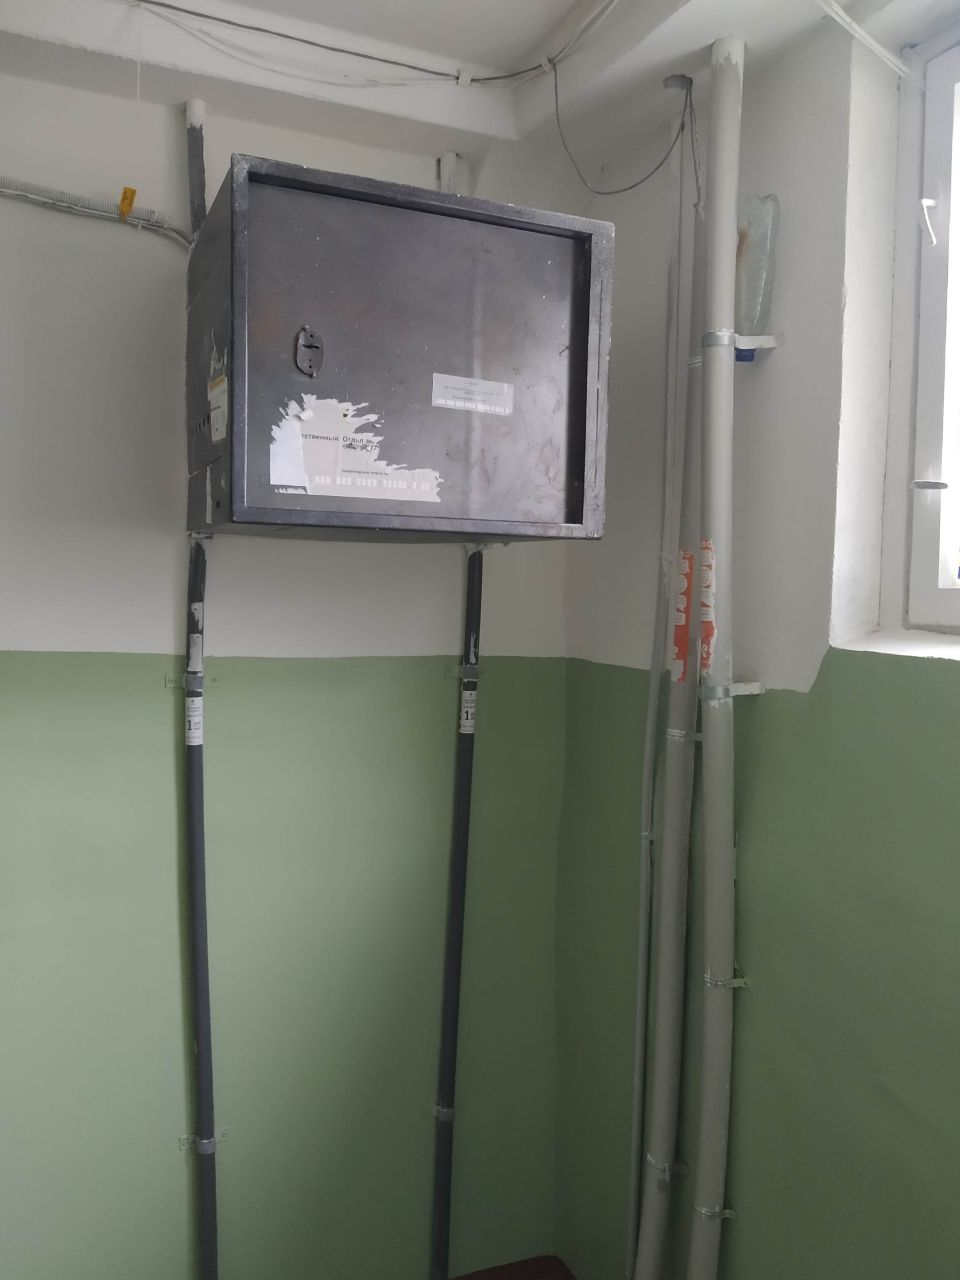shta-9m: (170, 142, 627, 555)
